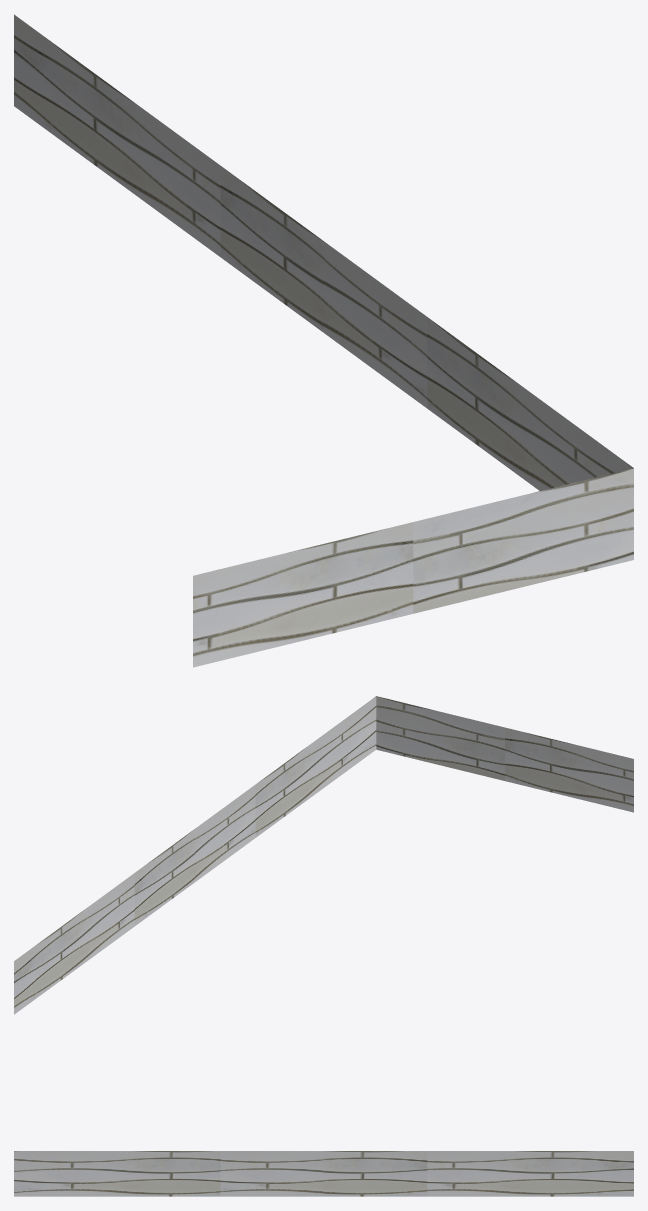
Rendered from BP_BackplashMarbleWinterFrost.glb.
The picture shows the model from 3 angles, top to bottom: view 1: azimuth 30°, elevation 25°; view 2: azimuth 150°, elevation 25°; view 3: azimuth 270°, elevation 25°; orthographic projection. The views are drawn at different scales.
Parts seen in each view (by area): view 1: Marble_Winter_Frost; view 2: Marble_Winter_Frost; view 3: Marble_Winter_Frost.
Boxes of the visible parts, x1,y1,x2,y2 form: Marble_Winter_Frost: (14,14,633,667); Marble_Winter_Frost: (14,696,633,1014); Marble_Winter_Frost: (14,1151,633,1196).
Size of the model in its own units: 0.955 by 0.19 by 2.32.
1 material, 1 textured.
